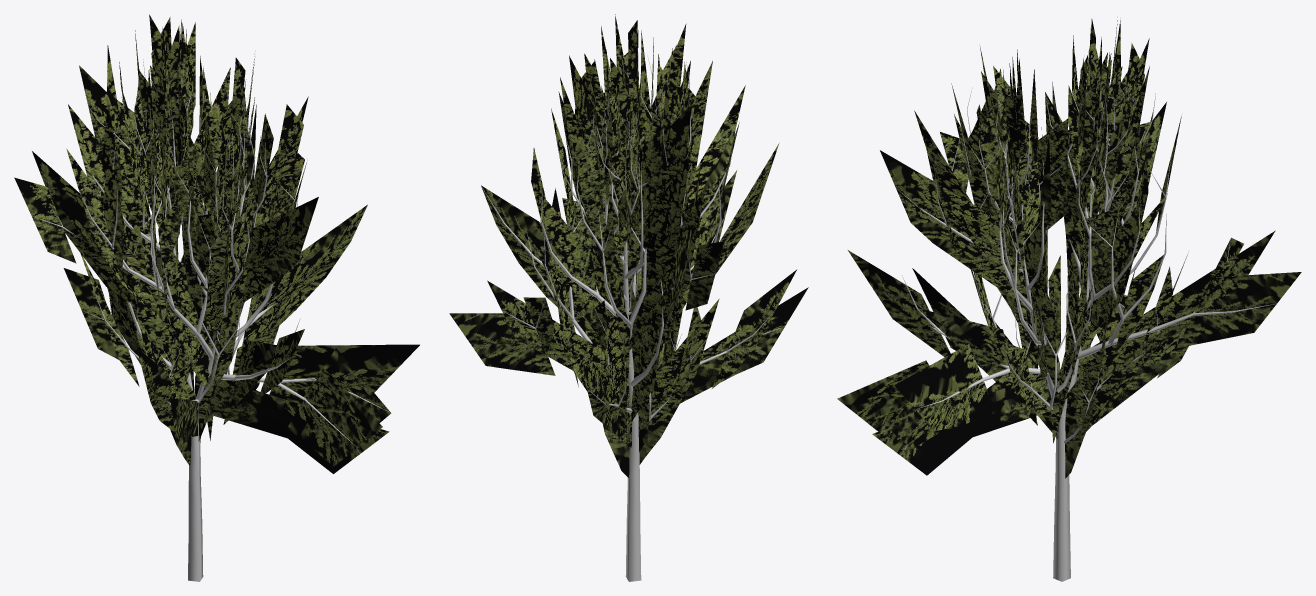
File: Tree.fbx
3 renders of one model, left to right at view 1: azimuth 30°, elevation 25°; view 2: azimuth 150°, elevation 25°; view 3: azimuth 270°, elevation 25°, orthographic.
Parts seen in each view (by area): view 1: tree.001, tree; view 2: tree.001, tree; view 3: tree.001, tree.
Boxes of the visible parts, x1,y1,x2,y2 form: tree.001: (14,14,419,473); tree: (32,59,392,581); tree.001: (449,14,808,477); tree: (468,53,784,581); tree.001: (837,18,1301,478); tree: (896,58,1276,581).
Bounding box in the file's own units: 532 × 933 × 712.
